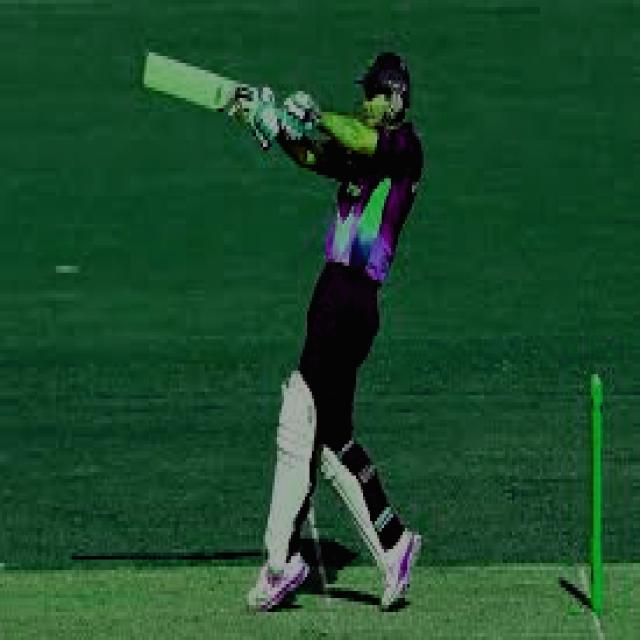toe: (140, 52, 156, 92)
